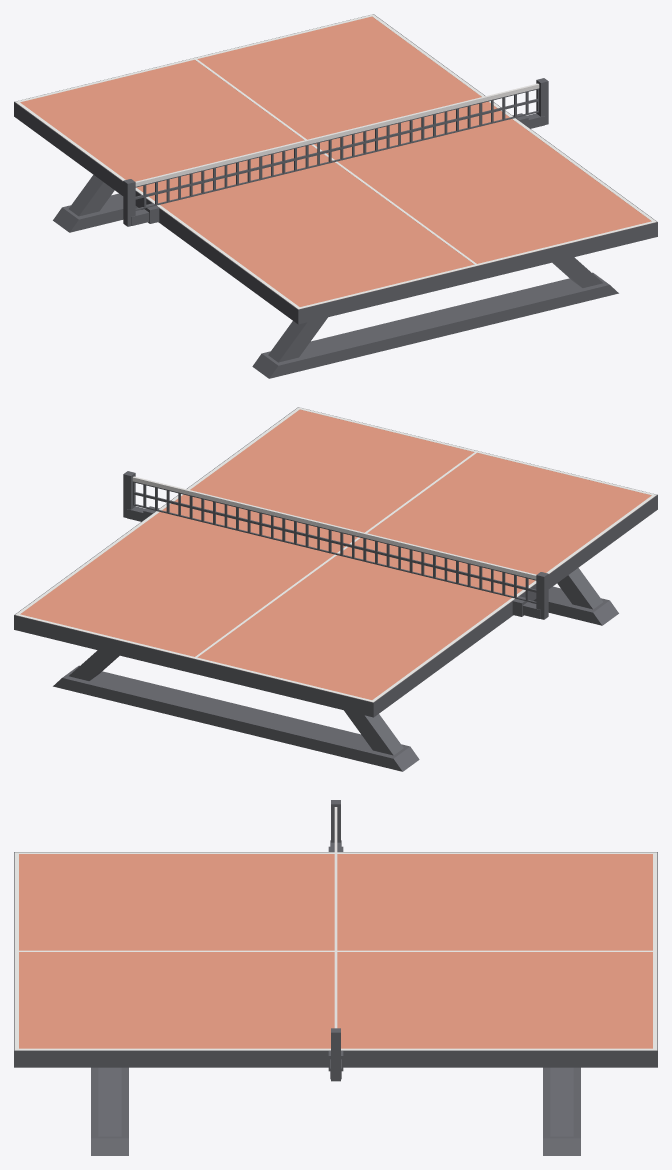
File: NotPongTable_v2.fbx
3 views of the same model, one above another, from view 1: azimuth 30°, elevation 25°; view 2: azimuth 150°, elevation 25°; view 3: azimuth 270°, elevation 25° (orthographic). The views are drawn at different scales.
Parts seen in each view (by area): view 1: NPV2_Top, NPV2_Legs, NPV2_EdgeBand, NPV2_NetMesh, NPV2_Lines, NPV2_NetTape, NPV2_NetPosts; view 2: NPV2_Top, NPV2_Legs, NPV2_EdgeBand, NPV2_NetMesh, NPV2_Lines, NPV2_NetTape, NPV2_NetPosts; view 3: NPV2_Top, NPV2_EdgeBand, NPV2_Legs, NPV2_Lines, NPV2_NetPosts, NPV2_NetTape.
Boxes of the visible parts, x1=… form: NPV2_Top: x1=20, y1=16, x2=651, y2=306; NPV2_Legs: x1=53, y1=175, x2=618, y2=378; NPV2_EdgeBand: x1=14, y1=14, x2=657, y2=324; NPV2_NetMesh: x1=135, y1=88, x2=538, y2=210; NPV2_Lines: x1=15, y1=14, x2=656, y2=309; NPV2_NetTape: x1=135, y1=83, x2=539, y2=186; NPV2_NetPosts: x1=123, y1=78, x2=548, y2=226; NPV2_Top: x1=20, y1=409, x2=651, y2=699; NPV2_Legs: x1=53, y1=568, x2=618, y2=771; NPV2_EdgeBand: x1=14, y1=407, x2=657, y2=717; NPV2_NetMesh: x1=133, y1=481, x2=536, y2=603; NPV2_Lines: x1=15, y1=407, x2=656, y2=702; NPV2_NetTape: x1=132, y1=476, x2=536, y2=579; NPV2_NetPosts: x1=123, y1=471, x2=548, y2=619; NPV2_Top: x1=19, y1=854, x2=652, y2=1048; NPV2_EdgeBand: x1=14, y1=852, x2=657, y2=1067; NPV2_Legs: x1=91, y1=1067, x2=580, y2=1155; NPV2_Lines: x1=14, y1=852, x2=657, y2=1050; NPV2_NetPosts: x1=328, y1=800, x2=343, y2=1081; NPV2_NetTape: x1=334, y1=807, x2=337, y2=1028.
Bounding box in the file's own units: 40.51 × 11.59 × 47.38.
